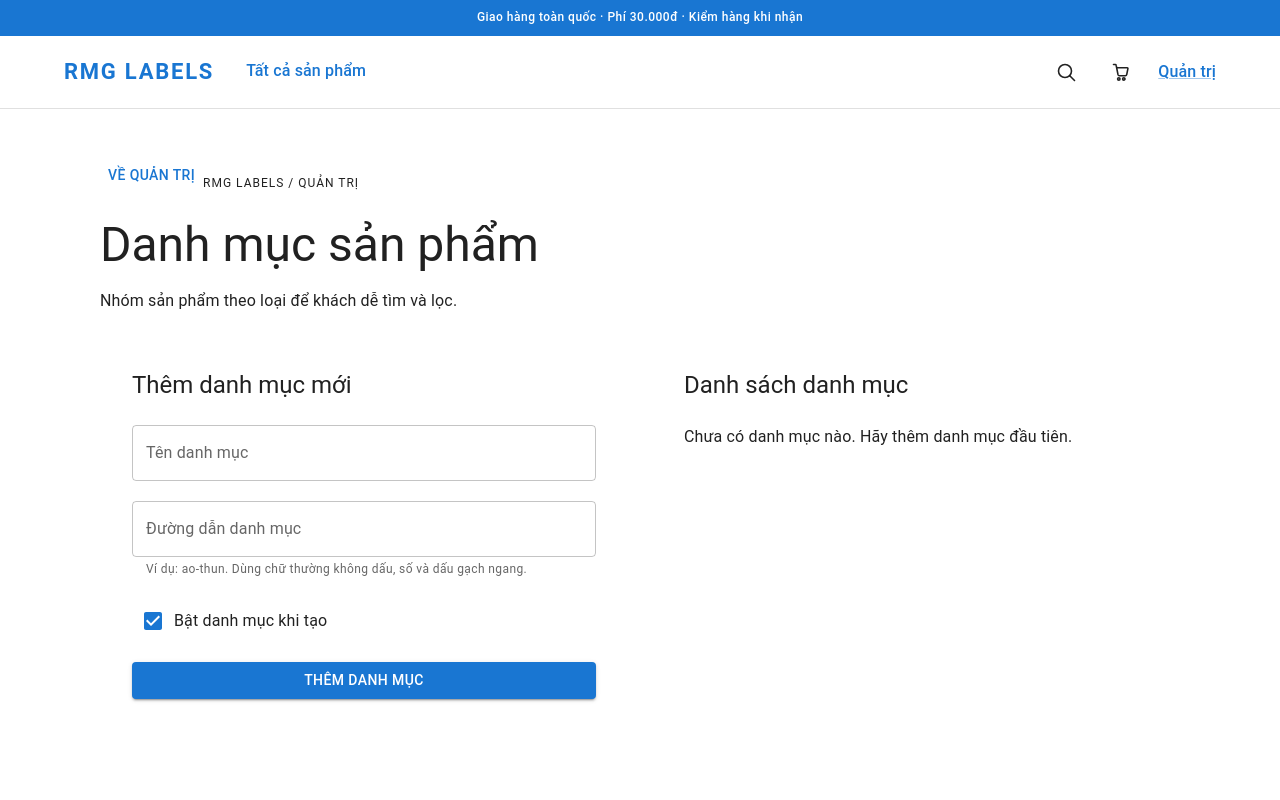
Test: admin category list and creation › displays field validation and preserves input after a network failure
Expected: the heading "Danh mục sản phẩm" is shown, left=100, top=216, right=539, bottom=273
Type "Áo thun" into the field labelled "Tên danh mục".
click(364, 453); type("Áo thun")  # box left=132, top=425, right=596, bottom=481
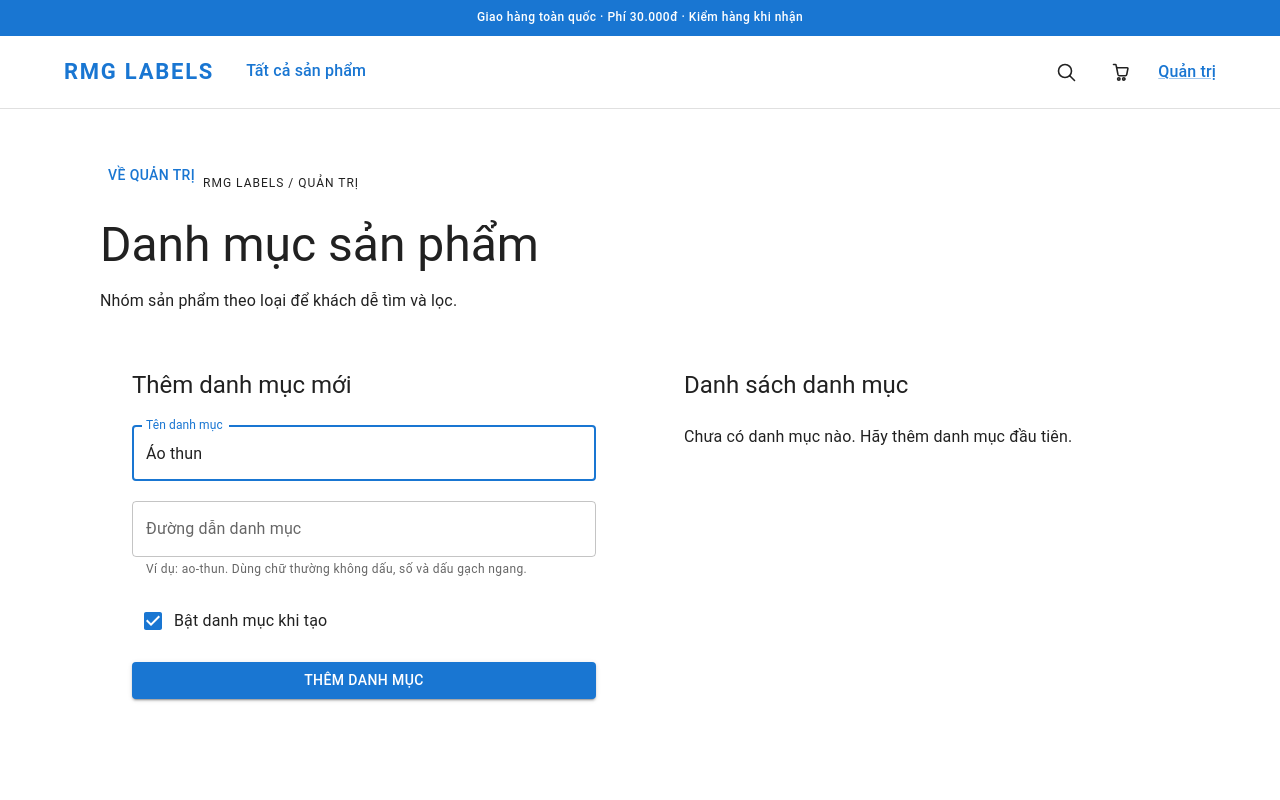
Type "ao-thun" into the field labelled "Đường dẫn danh mục".
click(364, 529); type("ao-thun")  # box left=132, top=501, right=596, bottom=557
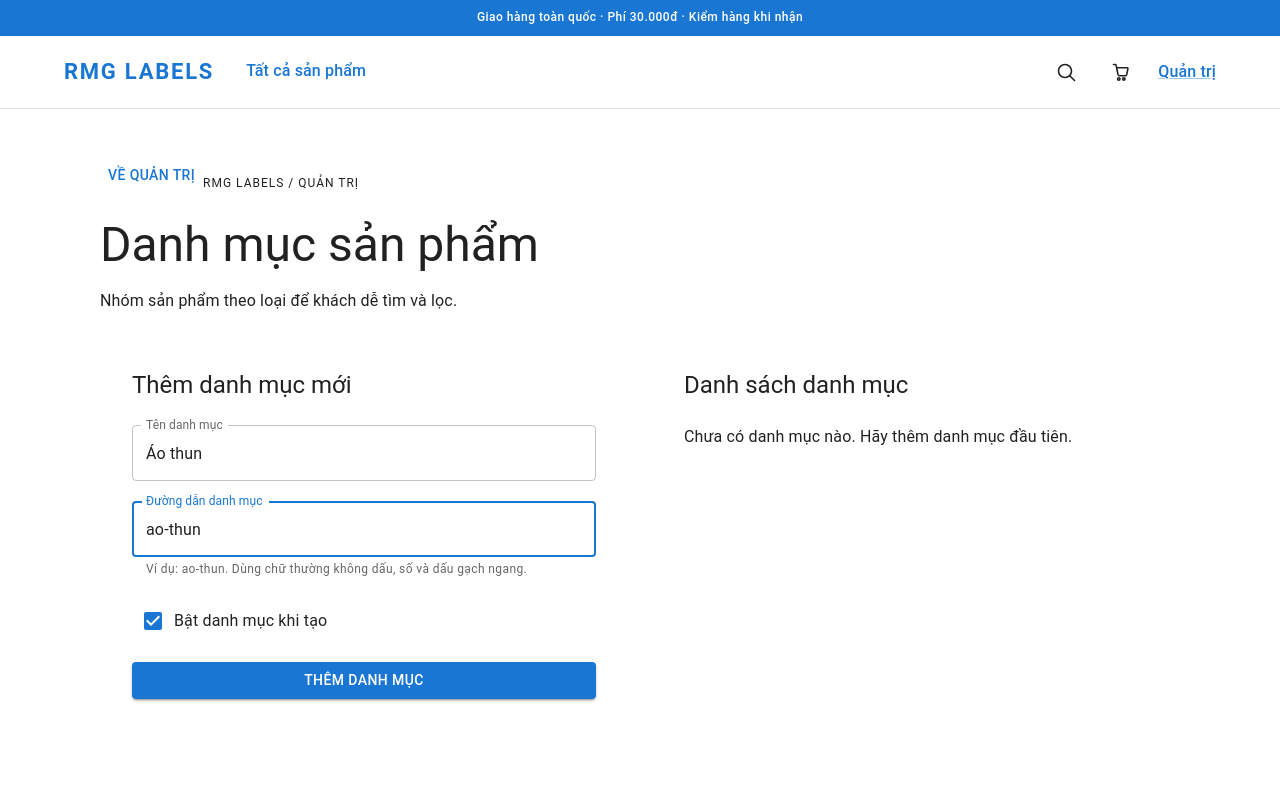
Click the button "Thêm danh mục".
click(364, 681)  # box left=132, top=662, right=596, bottom=699
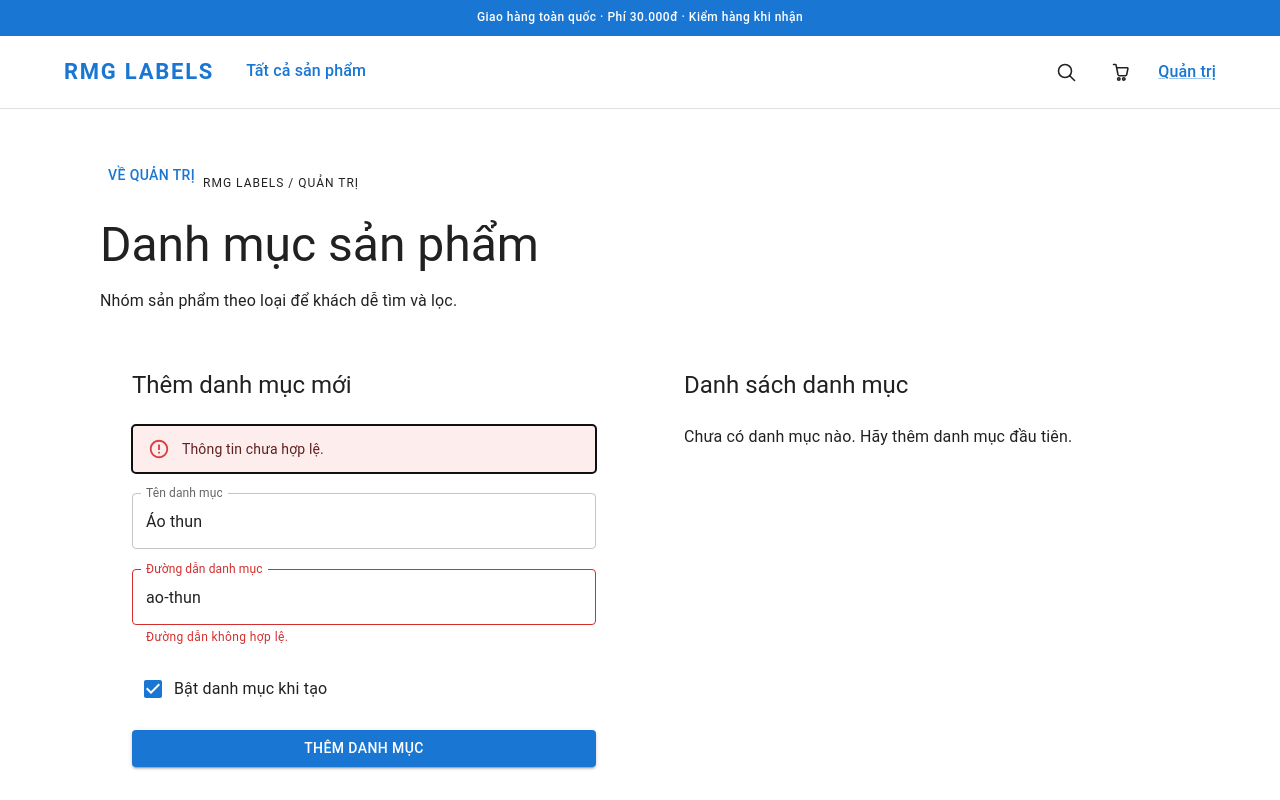
Result: the text "Đường dẫn không hợp lệ." is shown at left=146, top=630, right=288, bottom=644
Click the button "Thêm danh mục".
click(364, 749)  # box left=132, top=730, right=596, bottom=767
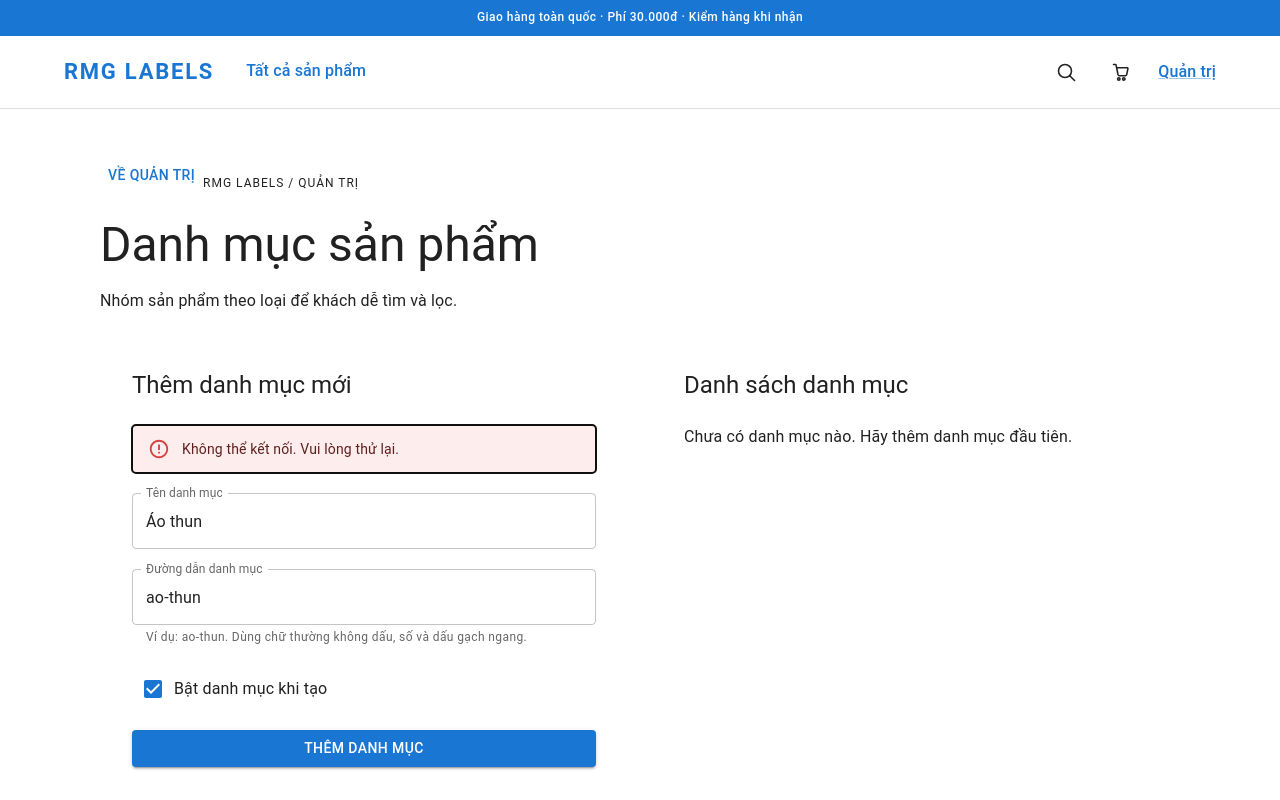
Result: the text "Không thể kết nối. Vui lòng thử lại." is shown at left=182, top=441, right=399, bottom=457
